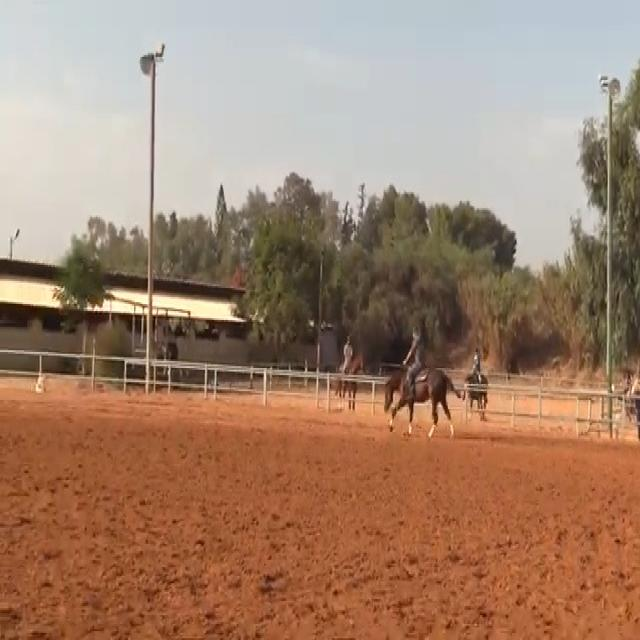horse: (381, 359, 463, 439)
